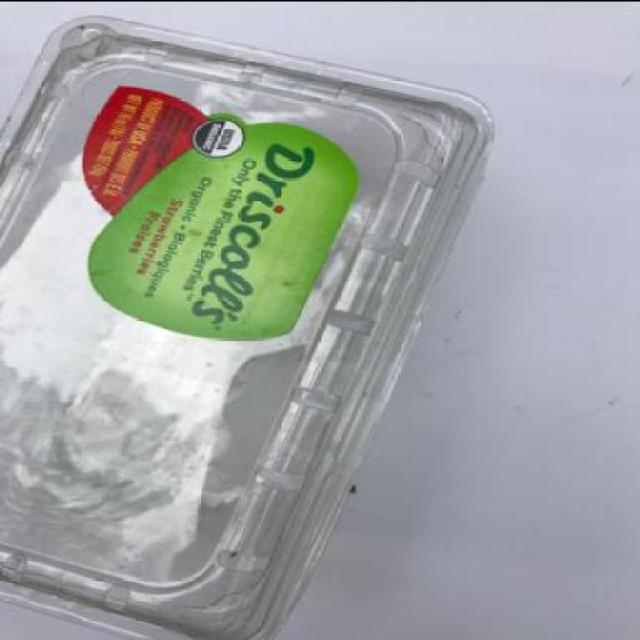PLASTIC: (2, 14, 495, 638)
